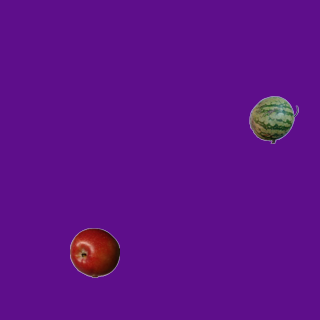Apple Braeburn: (69, 227, 119, 277)
Watermelon: (248, 94, 298, 144)
